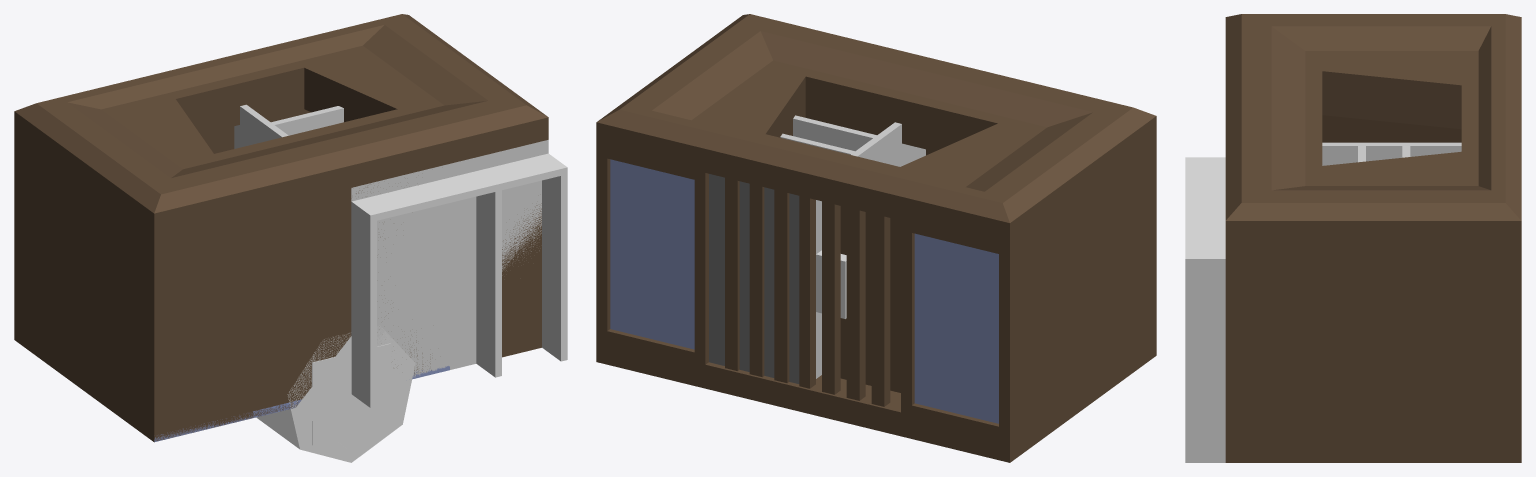
File: Kitchen.fbx
3 renders of one model, left to right at view 1: azimuth 30°, elevation 25°; view 2: azimuth 150°, elevation 25°; view 3: azimuth 270°, elevation 25°, orthographic. The views are drawn at different scales.
Parts seen in each view (by area): view 1: Oven, Cabinet 1, Upper Cabinet 4, Cabinet 4, Pot 3, Pot 1, Pot 4, Upper Cabinet 1, Cabinet 2, Cabinet 1 Door; view 2: Oven, Cabinet 1, Cabinet 4; view 3: Oven, Cabinet 1, Cabinet 4.
Part boxes in pixels (x1,y1,x2,y2): Oven: [14, 14, 548, 442]; Cabinet 1: [234, 104, 567, 407]; Upper Cabinet 4: [377, 196, 476, 376]; Cabinet 4: [274, 106, 501, 377]; Pot 3: [312, 343, 391, 445]; Pot 1: [256, 325, 415, 462]; Pot 4: [296, 336, 407, 452]; Upper Cabinet 1: [234, 137, 541, 349]; Cabinet 2: [271, 106, 343, 135]; Cabinet 1 Door: [154, 400, 300, 441]; Oven: [596, 14, 1156, 462]; Cabinet 1: [709, 115, 925, 383]; Cabinet 4: [709, 134, 853, 383]; Oven: [1225, 14, 1521, 462]; Cabinet 1: [1185, 142, 1461, 462]; Cabinet 4: [1185, 146, 1410, 225].
Bounding box in the file's own units: 600 × 447 × 418.
